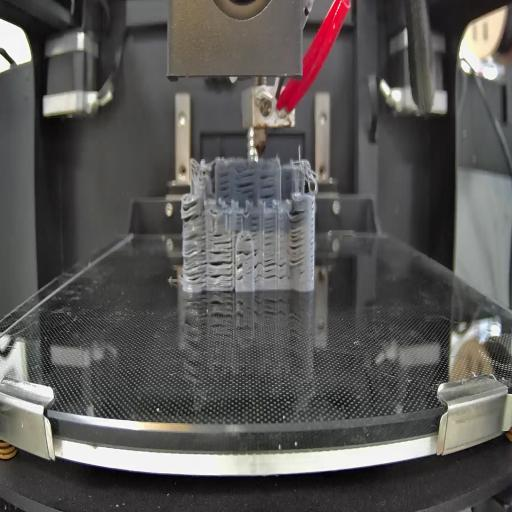cracks: (208, 231, 233, 286), (184, 230, 206, 284), (288, 208, 306, 269), (264, 256, 288, 282), (235, 170, 256, 199), (182, 196, 203, 224), (258, 173, 276, 202), (218, 171, 232, 200), (265, 217, 276, 249), (236, 248, 258, 258), (250, 214, 260, 235), (236, 263, 245, 284), (255, 260, 262, 284), (235, 212, 242, 234), (242, 236, 253, 244)
